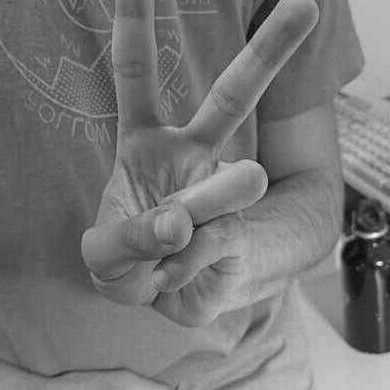V: (80, 1, 321, 325)
